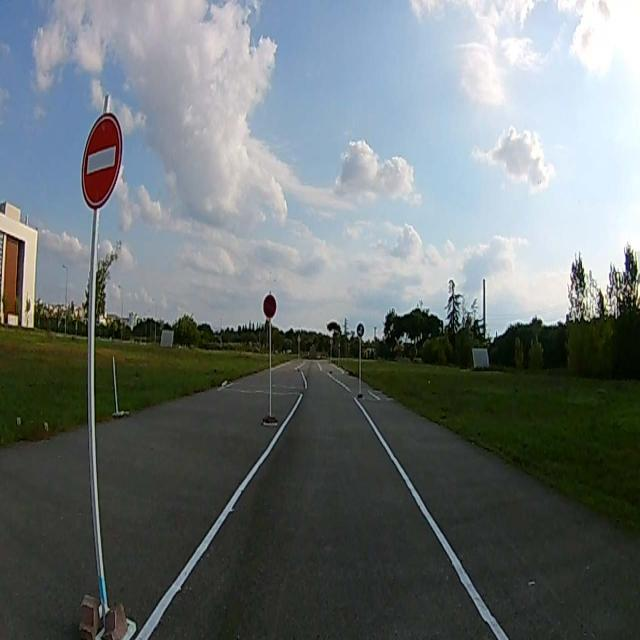girisyok: (82, 115, 120, 209)
